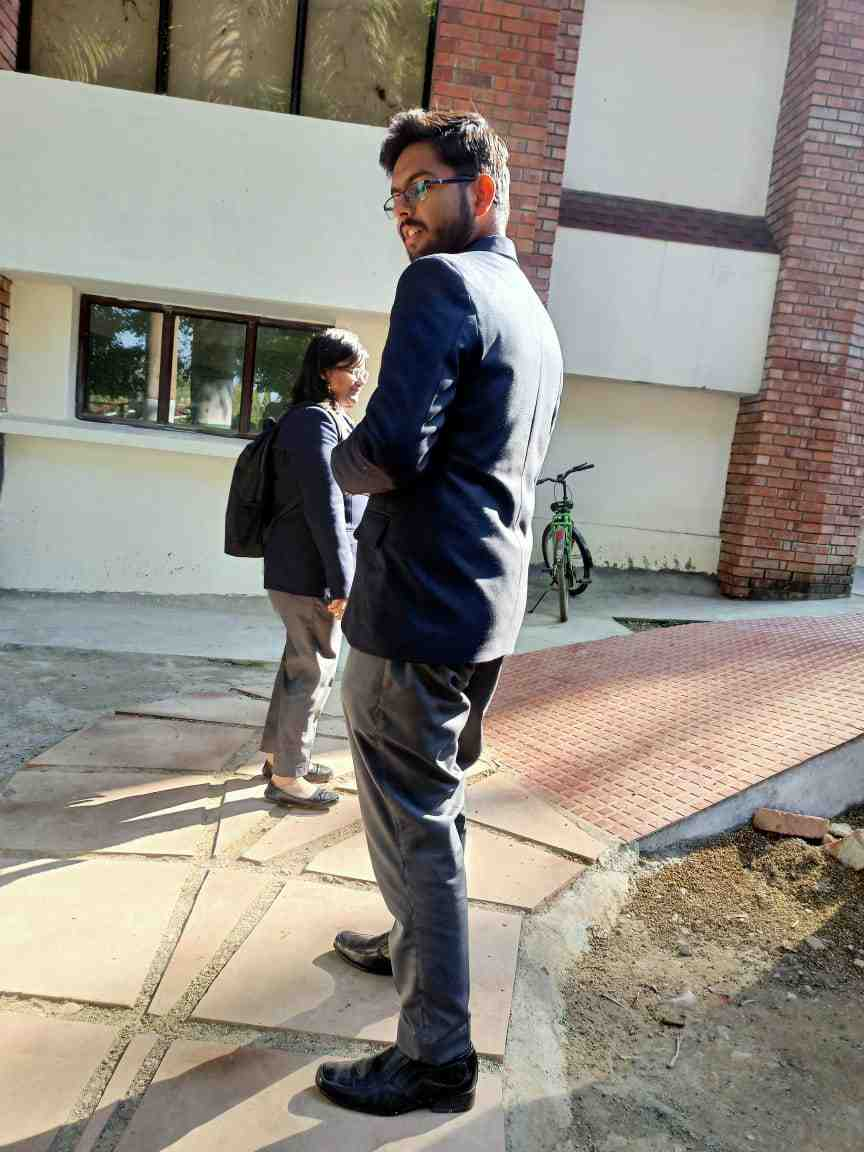blazer: (338, 260, 574, 653), (248, 403, 364, 604)
pant: (336, 634, 506, 1058), (262, 576, 348, 764)
